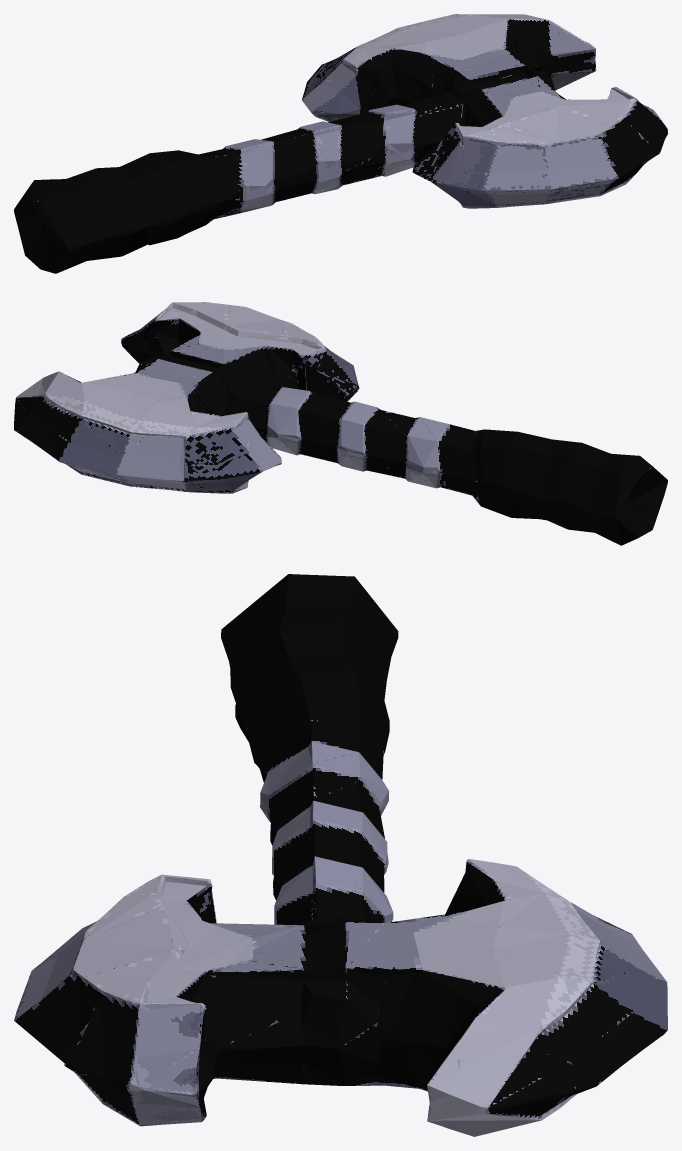
3 renders of one model, top to bottom at view 1: azimuth 30°, elevation 25°; view 2: azimuth 150°, elevation 25°; view 3: azimuth 270°, elevation 25°, orthographic. The views are drawn at different scales.
Parts seen in each view (by area): view 1: OBJ001; view 2: OBJ001; view 3: OBJ001.
Boxes of the visible parts, <box> form: OBJ001: <box>14,14,667,273</box>; OBJ001: <box>14,302,667,545</box>; OBJ001: <box>14,574,667,1136</box>.
Bounding box in the file's own units: 0.3768 × 0.0481 × 0.2159.
1 material, 1 textured.
